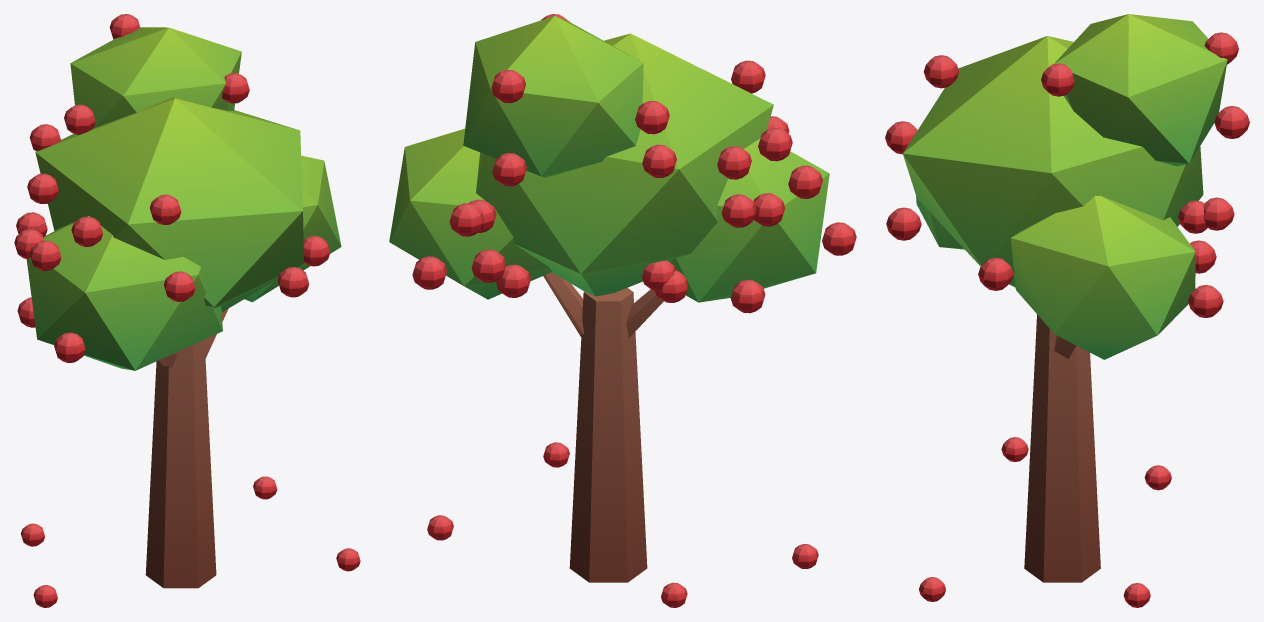
File: apple_tree.glb
3 views of the same model, side by side, from view 1: azimuth 30°, elevation 25°; view 2: azimuth 150°, elevation 25°; view 3: azimuth 270°, elevation 25° (orthographic). The views are drawn at different scales.
Visible parts, largest first — view 1: apple_tree; view 2: apple_tree; view 3: apple_tree.
Boxes of the visible parts, x1,y1,x2,y2 form: apple_tree: (14, 14, 360, 607); apple_tree: (389, 14, 856, 607); apple_tree: (885, 14, 1249, 607).
Bounding box in the file's own units: 3.1 × 4.55 × 2.67.
1 material, 1 textured.
